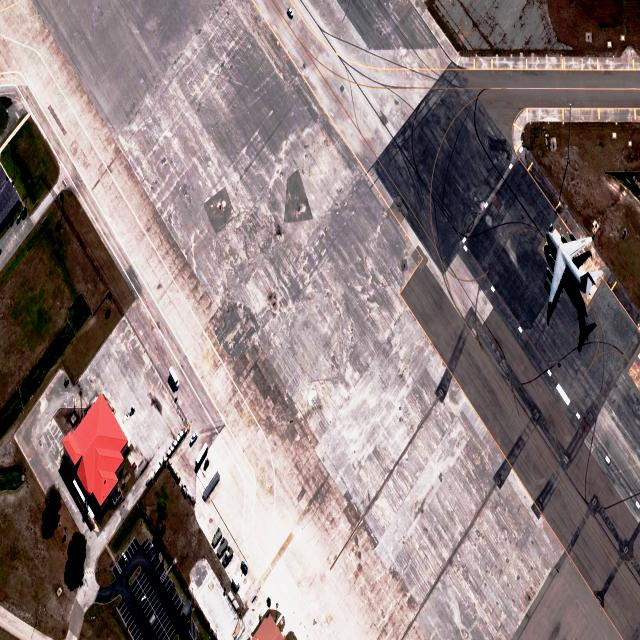Aircraft: (542, 219, 604, 352)
